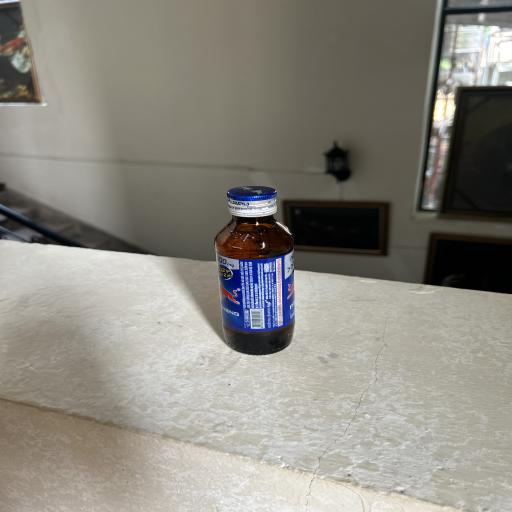bo_huc: (210, 182, 296, 357)
